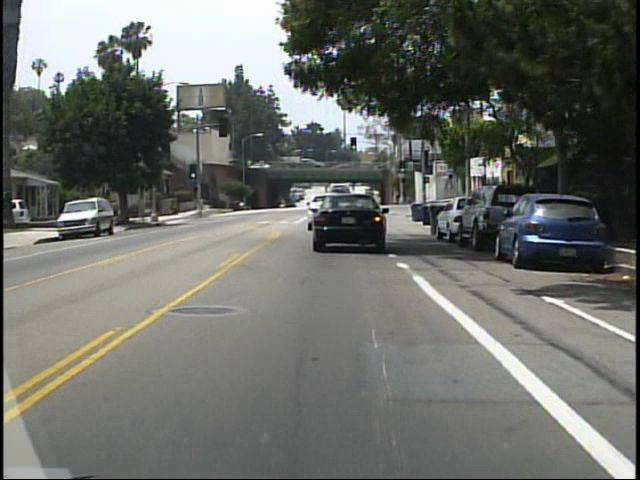person: (112, 199, 121, 224)
